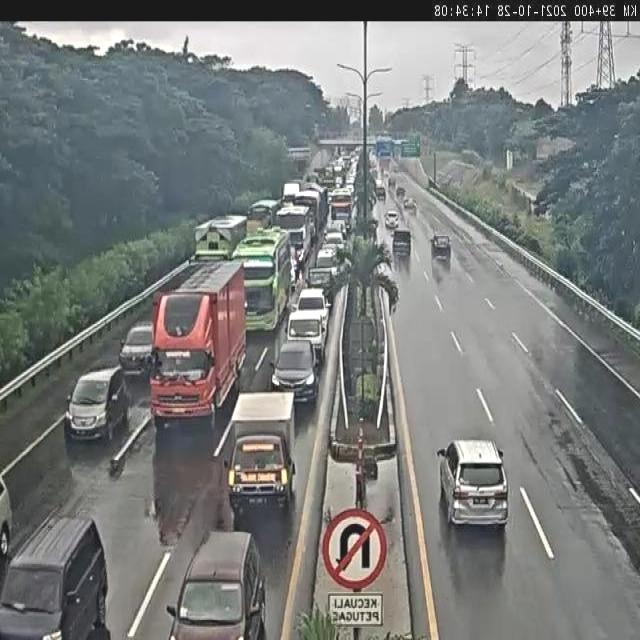Bus: (232, 227, 293, 329), (274, 203, 315, 268), (329, 188, 355, 228)
Car: (166, 531, 268, 639), (438, 438, 508, 527), (66, 364, 130, 443), (270, 337, 320, 405), (119, 322, 156, 380), (312, 247, 344, 298), (294, 286, 328, 334), (430, 233, 451, 265), (324, 230, 346, 254), (385, 210, 399, 230), (404, 197, 417, 212), (396, 185, 406, 199), (388, 175, 396, 187)
Truck: (150, 260, 248, 432), (226, 390, 295, 517), (193, 215, 248, 264), (284, 308, 328, 368)
Van: (1, 514, 111, 638), (392, 228, 412, 262)
